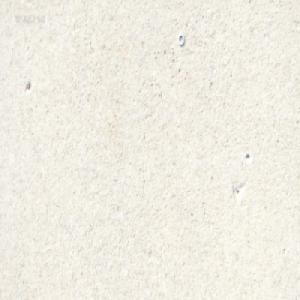Washer: (176, 31, 184, 46)
